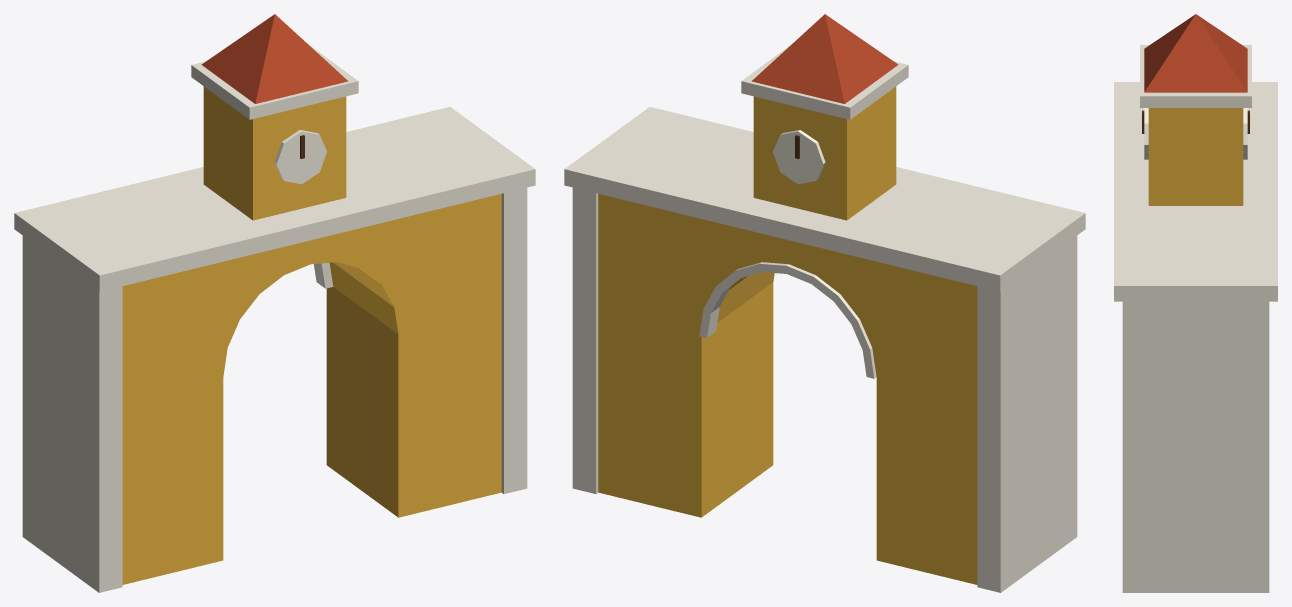
The model's file is arco.obj.
3 views of the same model, side by side, from view 1: azimuth 30°, elevation 25°; view 2: azimuth 150°, elevation 25°; view 3: azimuth 270°, elevation 25° (orthographic). The views are drawn at different scales.
Visible parts, largest first — view 1: arco; view 2: arco; view 3: arco.
Part boxes in pixels (left/top/right/bottom): arco: left=14, top=14, right=535, bottom=592; arco: left=564, top=14, right=1085, bottom=592; arco: left=1114, top=14, right=1277, bottom=592.
Size of the model in its own units: 2.24 by 2.45 by 0.76.
